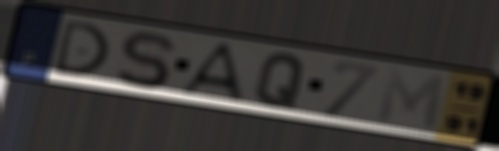7: (325, 58, 382, 120)
A: (176, 40, 248, 105)
D: (50, 18, 113, 79)
M: (374, 66, 449, 134)
Q: (252, 51, 310, 111)
S: (113, 29, 178, 91)
